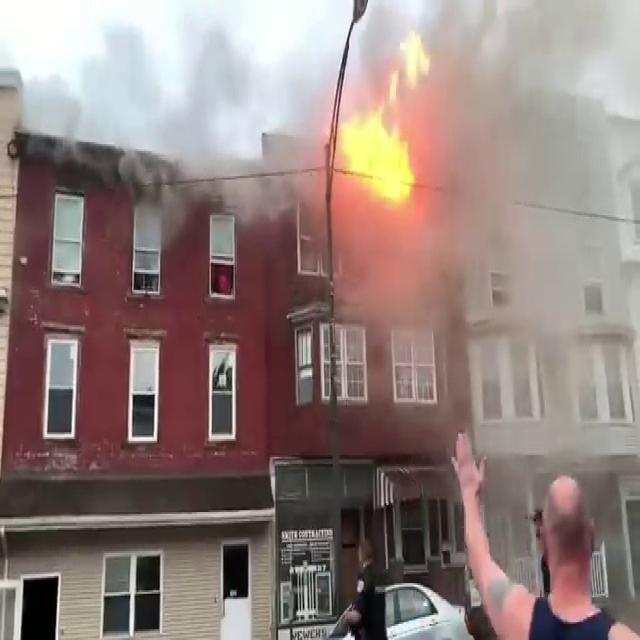Fire: (325, 54, 431, 211)
Smoke: (412, 0, 640, 437), (95, 10, 342, 231)
